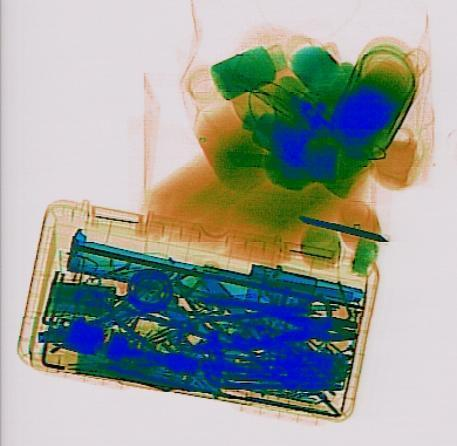Pliers: (191, 298, 356, 352)
